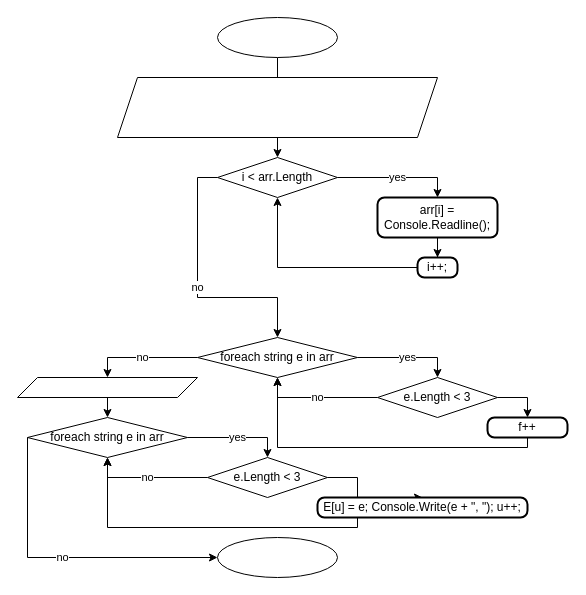
The diagram is 586 pixels wide and 595 high, and some of its shapes have lost their labels. Here are the shapes that lost their labels. From the top down, the centre of each, then its label:
At point (277, 37): "Start".
At point (277, 107): "string[] arr = new string[int.parse(Console.ReadLine); int f = 0; int u = 0;".
At point (107, 387): "string[] e = new string[f];".
At point (277, 557): "End".
